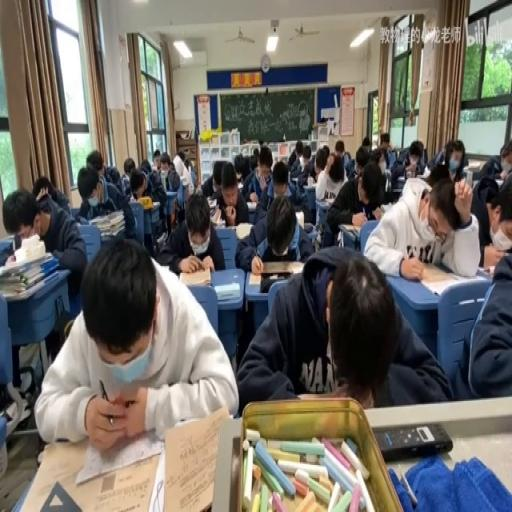calculator: (9, 426, 167, 510), (160, 405, 230, 512), (416, 260, 468, 294), (178, 266, 212, 287), (214, 282, 240, 300), (341, 220, 363, 238), (234, 222, 252, 240), (210, 205, 223, 223), (154, 230, 166, 249), (475, 264, 491, 278), (380, 200, 394, 214), (294, 209, 303, 229), (492, 176, 506, 188), (466, 158, 482, 168), (303, 220, 315, 232), (320, 196, 334, 206), (206, 196, 217, 208), (219, 222, 235, 230), (394, 176, 404, 188), (461, 163, 471, 175), (156, 262, 170, 270), (246, 201, 258, 209), (306, 176, 315, 186), (180, 175, 190, 183), (290, 174, 299, 180), (237, 180, 243, 186)
paper: (38, 234, 236, 444), (234, 246, 446, 412), (448, 186, 512, 401), (2, 180, 86, 302), (235, 189, 315, 275), (158, 189, 225, 276), (323, 156, 387, 246), (77, 160, 138, 244), (129, 158, 170, 233), (426, 135, 469, 176), (390, 138, 428, 183), (488, 179, 511, 246), (476, 135, 510, 179), (291, 142, 317, 184), (198, 158, 224, 200), (373, 132, 394, 170), (162, 158, 182, 192), (271, 161, 289, 195), (354, 146, 370, 178), (32, 175, 51, 200), (314, 145, 329, 174), (86, 150, 104, 174), (342, 150, 356, 180), (327, 156, 343, 182), (258, 148, 272, 173), (233, 154, 246, 180), (107, 164, 122, 186), (130, 178, 143, 199), (122, 158, 134, 178), (138, 160, 150, 176), (120, 172, 130, 191), (248, 154, 258, 172), (334, 139, 344, 155), (288, 149, 298, 165), (176, 148, 186, 163), (184, 156, 193, 170), (153, 152, 160, 168), (361, 136, 370, 148), (302, 155, 310, 168), (410, 148, 418, 158), (256, 139, 262, 148)
person: (374, 422, 451, 461), (260, 270, 294, 292), (260, 258, 296, 272)
